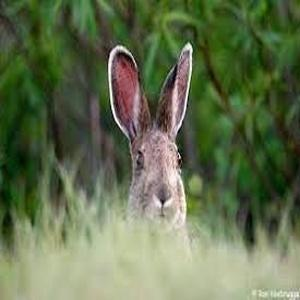rabbit: (108, 42, 191, 227)
